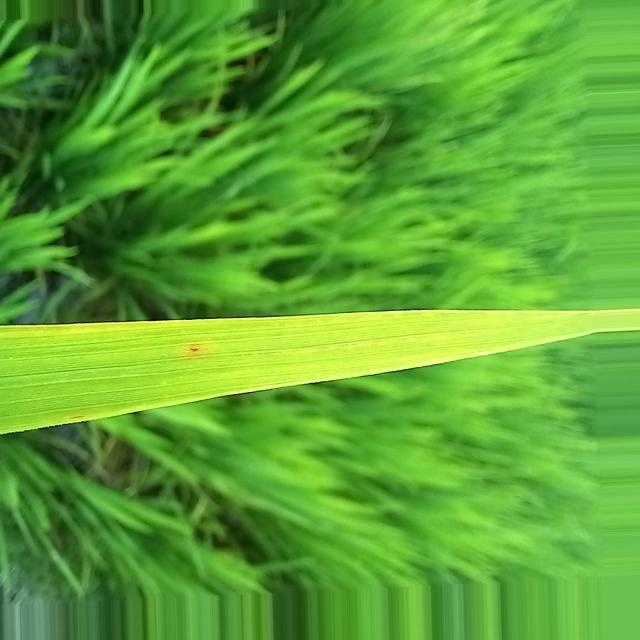Brown_Spot: (186, 343, 201, 355)
